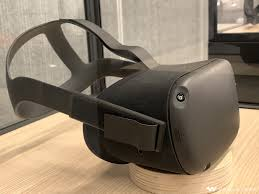oculus: (70, 56, 246, 178)
